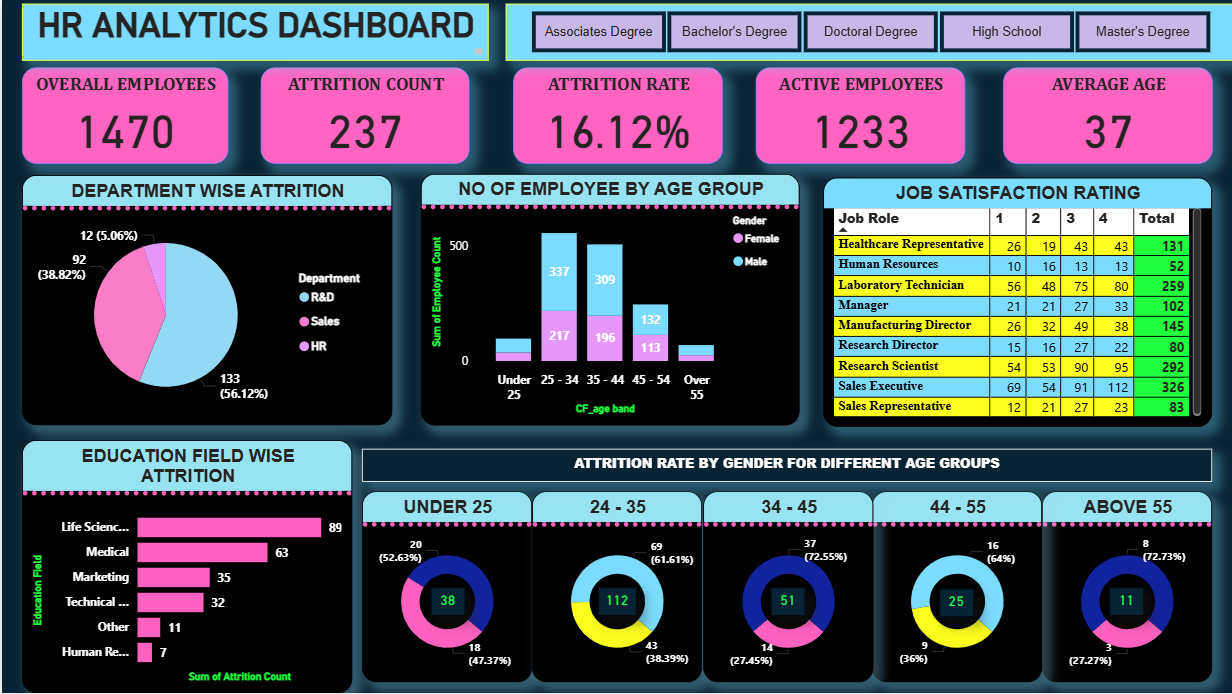

The dashboard page shown, as its layout file describes it:
{"tool":"powerbi","page":{"name":"Page 1","canvas":[1280,720],"ordinal":0},"visuals":[{"type":"card","title":"OVERALL EMPLOYEES","fields":{"Values":["Sum(HR data.Employee Count)"]},"box":[20.5,70.5,214.1,100],"z":0},{"type":"card","title":"ATTRITION COUNT","fields":{"Values":["Sum(HR data.Attrition Count)"]},"box":[269.2,70.5,216.7,100],"z":1000},{"type":"card","title":"AVERAGE AGE ","fields":{"Values":["Avg(HR data.Age)"]},"box":[1039.7,70.5,217.9,100],"z":2000},{"type":"card","title":"ACTIVE EMPLOYEES","fields":{"Values":["HR data.Act_emp"]},"box":[783.3,70.5,217.9,100],"z":3000},{"type":"card","title":"ATTRITION RATE","fields":{"Values":["HR data.Att_rate"]},"box":[530.8,70.5,217.9,100],"z":4000},{"type":"pieChart","title":"DEPARTMENT WISE ATTRITION","fields":{"Category":["HR data.Department"],"Y":["Sum(HR data.Attrition Count)"]},"box":[20.5,182.1,384.6,260.3],"z":5000},{"type":"columnChart","title":"NO OF EMPLOYEE BY AGE GROUP","fields":{"Category":["HR data.CF_age band"],"Y":["Sum(HR data.Employee Count)"],"Series":["HR data.Gender"]},"box":[434.6,180.8,393.6,261.5],"z":6000},{"type":"pivotTable","title":"JOB SATISFACTION RATING ","fields":{"Rows":["HR data.Job Role"],"Columns":["HR data.Job Satisfaction"],"Values":["Sum(HR data.Employee Count)"]},"box":[853.8,184.6,403.8,259],"z":7000},{"type":"barChart","title":"EDUCATION FIELD WISE ATTRITION","fields":{"Category":["HR data.Education Field"],"Y":["Sum(HR data.Attrition Count)"]},"box":[20.5,457.7,343.6,262.8],"z":8000},{"type":"donutChart","title":"UNDER 25","fields":{"Category":["HR data.Gender"],"Y":["Sum(HR data.Attrition Count)"],"Series":["HR data.CF_age band"]},"box":[374.4,510.3,176.9,198.7],"z":9000},{"type":"donutChart","title":" 24 - 35","fields":{"Category":["HR data.Gender"],"Y":["Sum(HR data.Attrition Count)"],"Series":["HR data.CF_age band"]},"box":[551.3,510.3,176.9,198.7],"z":10000},{"type":"donutChart","title":"ABOVE 55","fields":{"Category":["HR data.Gender"],"Y":["Sum(HR data.Attrition Count)"],"Series":["HR data.CF_age band"]},"box":[1080.8,510.3,176.9,198.7],"z":11000},{"type":"donutChart","title":"44 - 55","fields":{"Category":["HR data.Gender"],"Y":["Sum(HR data.Attrition Count)"],"Series":["HR data.CF_age band"]},"box":[903.8,510.3,176.9,198.7],"z":12000},{"type":"donutChart","title":"34 - 45","fields":{"Category":["HR data.Gender"],"Y":["Sum(HR data.Attrition Count)"],"Series":["HR data.CF_age band"]},"box":[728.2,510.3,176.9,198.7],"z":13000},{"type":"textbox","box":[374.4,466.7,883.3,34.6],"z":14000},{"type":"card","fields":{"Values":["Sum(HR data.Attrition Count)"]},"box":[444.9,610.3,35.9,29.5],"z":15000},{"type":"card","fields":{"Values":["Sum(HR data.Attrition Count)"]},"box":[1151.3,610.3,35.9,29.5],"z":16000},{"type":"card","fields":{"Values":["Sum(HR data.Attrition Count)"]},"box":[974.4,611.5,35.9,29.5],"z":17000},{"type":"card","fields":{"Values":["Sum(HR data.Attrition Count)"]},"box":[798.7,610.3,35.9,29.5],"z":18000},{"type":"card","fields":{"Values":["Sum(HR data.Attrition Count)"]},"box":[619.2,610.3,39.7,29.5],"z":19000},{"type":"textbox","title":"HR ANALYTICS DASHBOARD","box":[20.5,3.8,484.6,59],"z":20000},{"type":"slicer","fields":{"Values":["HR data.Education"]},"box":[523.1,3.8,756.4,59],"z":21000}]}

Visuals, with their boxes in screenshot pixels (x1, y1, x2, y2), scaled from the page's 1280x720 canvas onto the 1232x694 screenshot:
"OVERALL EMPLOYEES" card: select_region(20, 68, 226, 164)
"ATTRITION COUNT" card: select_region(259, 68, 468, 164)
"AVERAGE AGE " card: select_region(1001, 68, 1210, 164)
"ACTIVE EMPLOYEES" card: select_region(754, 68, 964, 164)
"ATTRITION RATE" card: select_region(511, 68, 721, 164)
"DEPARTMENT WISE ATTRITION" pieChart: select_region(20, 176, 390, 426)
"NO OF EMPLOYEE BY AGE GROUP" columnChart: select_region(418, 174, 797, 426)
"JOB SATISFACTION RATING " pivotTable: select_region(822, 178, 1210, 428)
"EDUCATION FIELD WISE ATTRITION" barChart: select_region(20, 441, 350, 693)
"UNDER 25" donutChart: select_region(360, 492, 531, 683)
" 24 - 35" donutChart: select_region(531, 492, 701, 683)
"ABOVE 55" donutChart: select_region(1040, 492, 1211, 683)
"44 - 55" donutChart: select_region(870, 492, 1040, 683)
"34 - 45" donutChart: select_region(701, 492, 871, 683)
textbox: select_region(360, 450, 1211, 483)
card - Sum(HR data.Attrition Count): select_region(428, 588, 463, 617)
card - Sum(HR data.Attrition Count): select_region(1108, 588, 1143, 617)
card - Sum(HR data.Attrition Count): select_region(938, 589, 972, 618)
card - Sum(HR data.Attrition Count): select_region(769, 588, 803, 617)
card - Sum(HR data.Attrition Count): select_region(596, 588, 634, 617)
"HR ANALYTICS DASHBOARD" textbox: select_region(20, 4, 486, 61)
slicer - HR data.Education: select_region(503, 4, 1231, 61)
